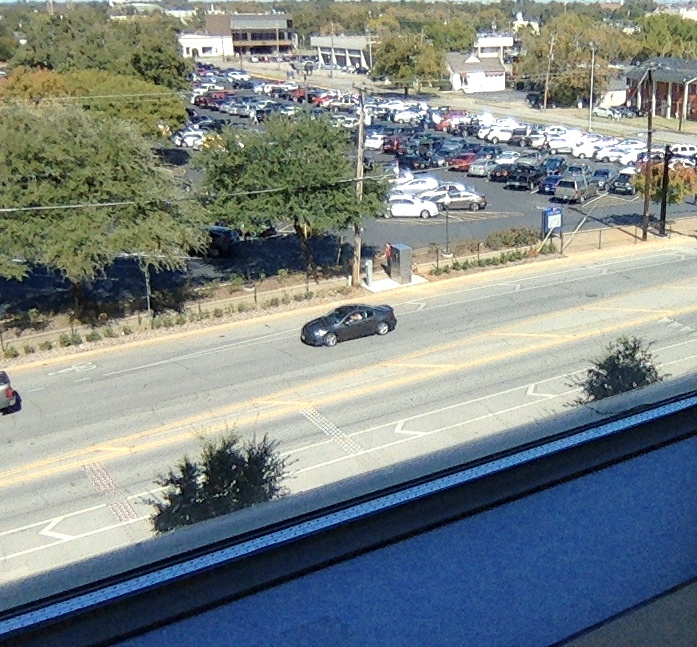car: (300, 300, 397, 347)
